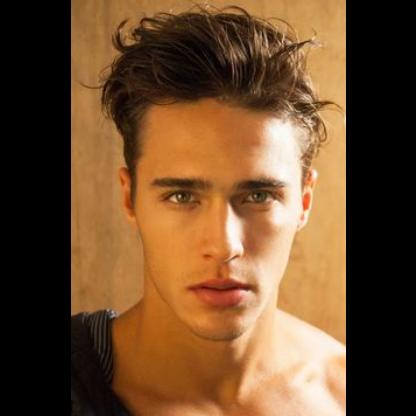Male: (118, 94, 312, 344)
